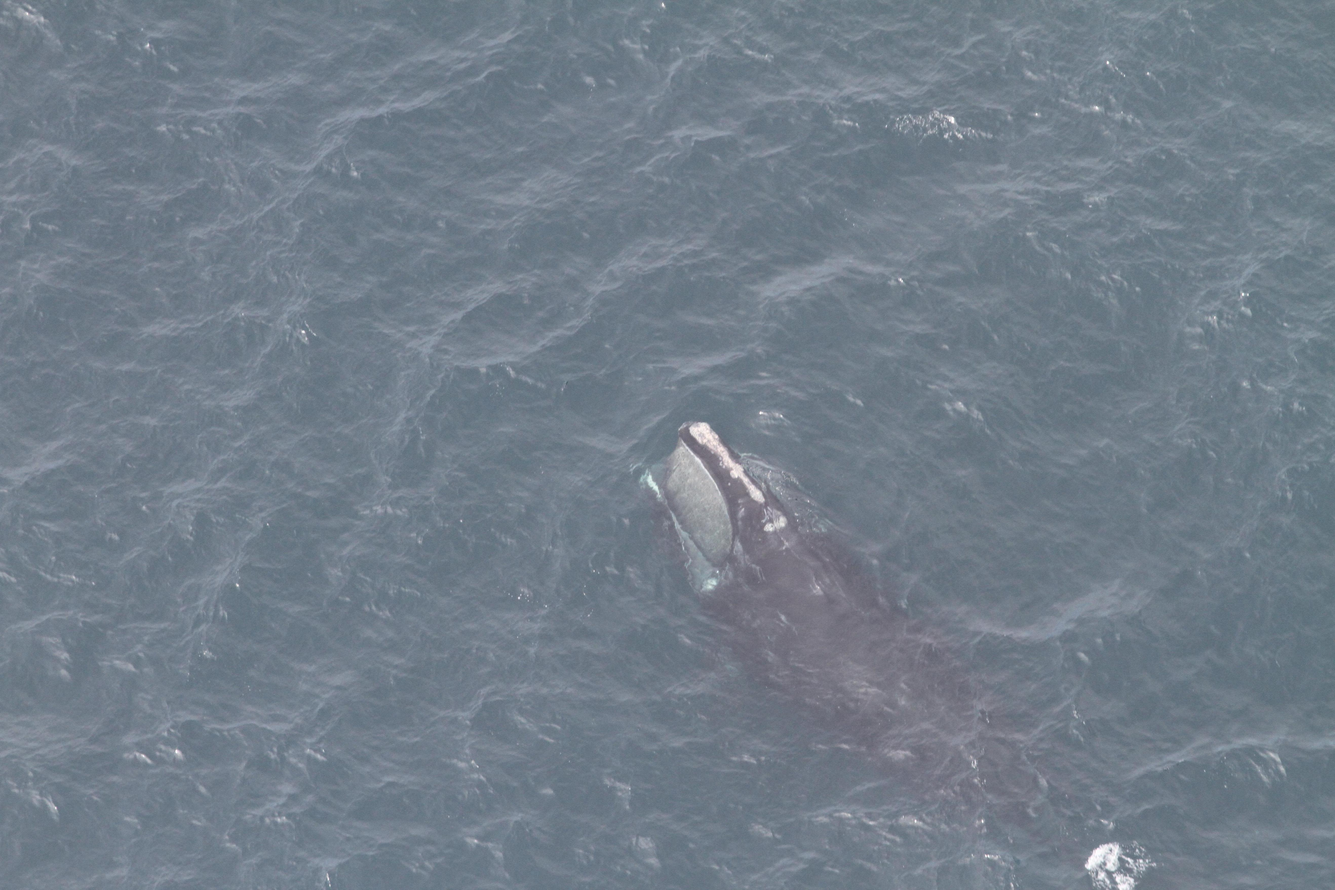whale: (627, 415, 1178, 890)
